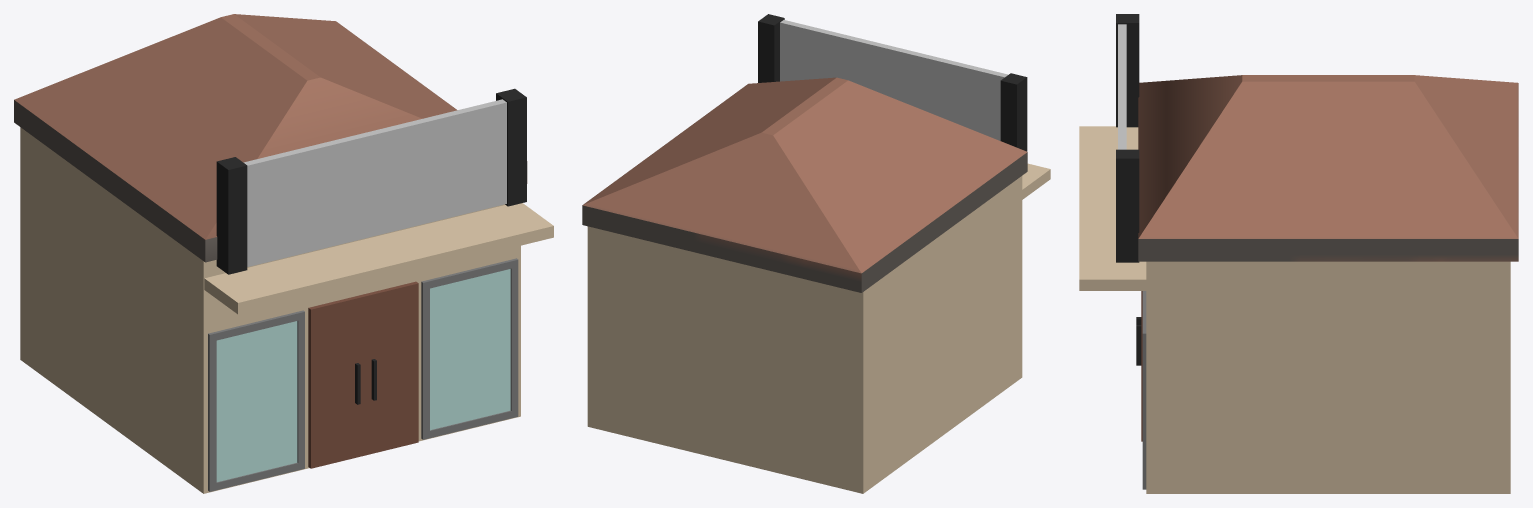
File: BangunanGenericVar1.fbx
3 views of the same model, side by side, from view 1: azimuth 30°, elevation 25°; view 2: azimuth 150°, elevation 25°; view 3: azimuth 270°, elevation 25° (orthographic). The views are drawn at different scales.
Parts seen in each view (by area): view 1: Bangunan_Var1_rev; view 2: Bangunan_Var1_rev; view 3: Bangunan_Var1_rev.
Part boxes in pixels (box(x1,y1,x2,y2)): Bangunan_Var1_rev: box(14, 14, 553, 493); Bangunan_Var1_rev: box(582, 14, 1050, 493); Bangunan_Var1_rev: box(1079, 14, 1518, 493).
Bounding box in the file's own units: 298 × 301 × 354.
1 material, 1 textured.
